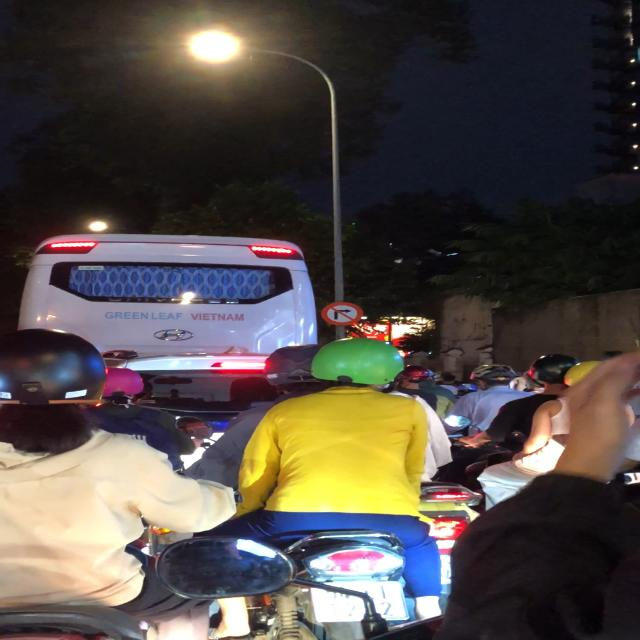Bien bao cam re phai: (319, 301, 366, 327)
